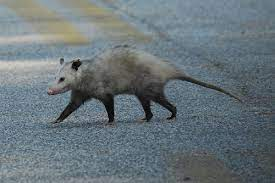opossum: (48, 47, 243, 122)
